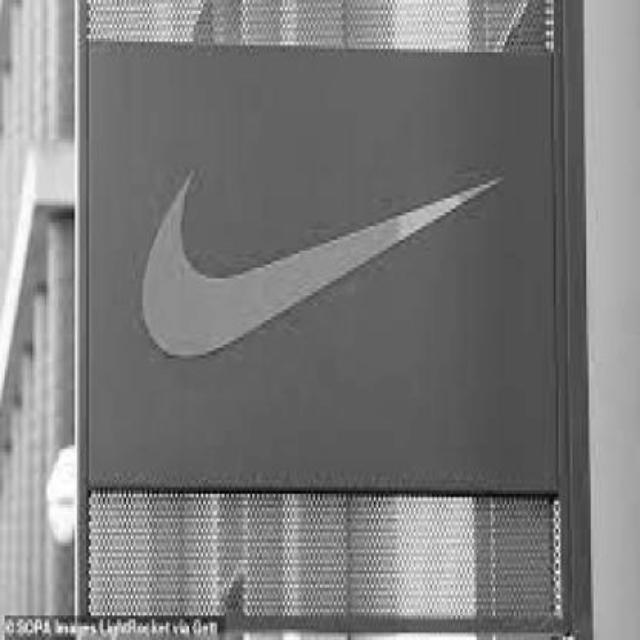NIKE_original: (129, 142, 535, 374)
